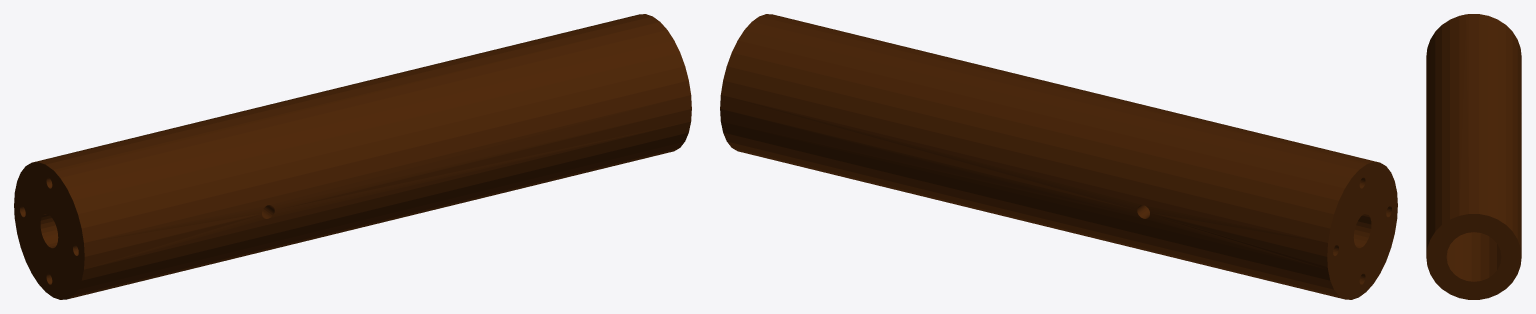
Rendered from zatana_terra_Y_axis_vis_2.dae.
The picture shows the model from 3 angles, left to right: view 1: azimuth 30°, elevation 25°; view 2: azimuth 150°, elevation 25°; view 3: azimuth 270°, elevation 25°; orthographic projection. The views are drawn at different scales.
Parts seen in each view (by area): view 1: Node_0000023183745EF0; view 2: Node_0000023183745EF0; view 3: Node_0000023183745EF0.
Part boxes in pixels (x1,y1,x2,y2): Node_0000023183745EF0: (14, 14, 691, 299); Node_0000023183745EF0: (720, 14, 1397, 299); Node_0000023183745EF0: (1426, 14, 1521, 299).
Bounding box in the file's own units: 0.1984 × 0.0399 × 0.04.
